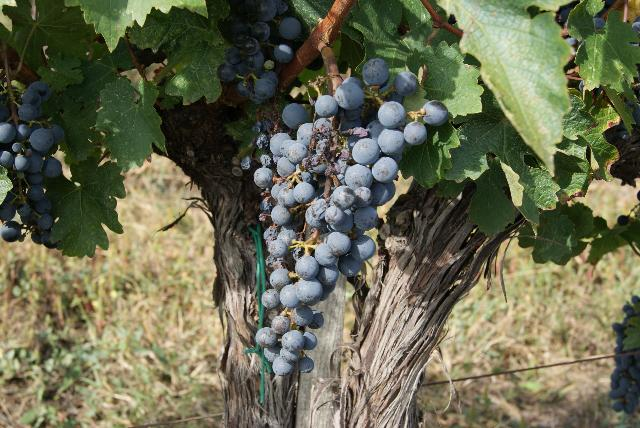grapes: (254, 59, 449, 376)
